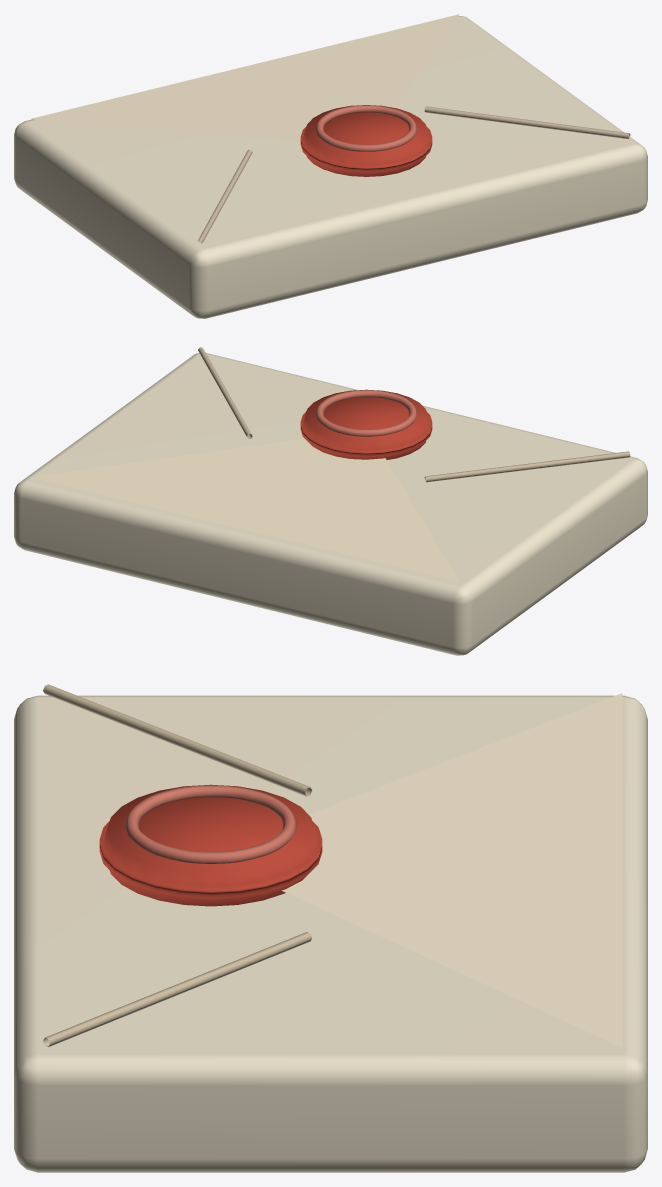
File: letter.glb
The picture shows the model from 3 angles, top to bottom: view 1: azimuth 30°, elevation 25°; view 2: azimuth 150°, elevation 25°; view 3: azimuth 270°, elevation 25°; orthographic projection. The views are drawn at different scales.
Visible parts, largest first — view 1: Crafted_paper, Crafted_cream, Crafted_apple_red, Crafted_seam, Crafted_coral; view 2: Crafted_paper, Crafted_cream, Crafted_apple_red, Crafted_seam, Crafted_coral; view 3: Crafted_paper, Crafted_cream, Crafted_apple_red, Crafted_seam, Crafted_coral.
Part boxes in pixels (box(x1,y1,x2,y2)): Crafted_paper: box(14, 16, 647, 318); Crafted_cream: box(30, 14, 459, 141); Crafted_apple_red: box(300, 105, 432, 176); Crafted_seam: box(198, 106, 630, 243); Crafted_coral: box(315, 105, 417, 151); Crafted_paper: box(14, 353, 647, 655); Crafted_cream: box(30, 438, 459, 581); Crafted_apple_red: box(300, 389, 432, 459); Crafted_seam: box(198, 347, 630, 482); Crafted_coral: box(315, 390, 417, 436); Crafted_paper: box(14, 695, 647, 1172); Crafted_cream: box(282, 693, 622, 1047); Crafted_apple_red: box(99, 784, 322, 906); Crafted_seam: box(43, 684, 312, 1047); Crafted_coral: box(125, 785, 296, 863).
Bounding box in the file's own units: 0.52 × 0.111 × 0.37.
